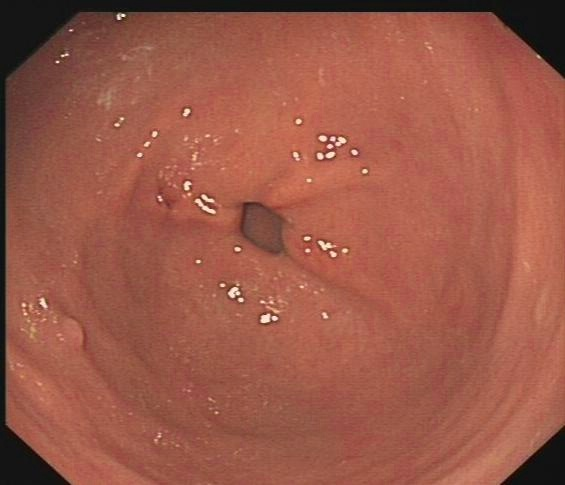Polyp: (42, 301, 101, 365)
